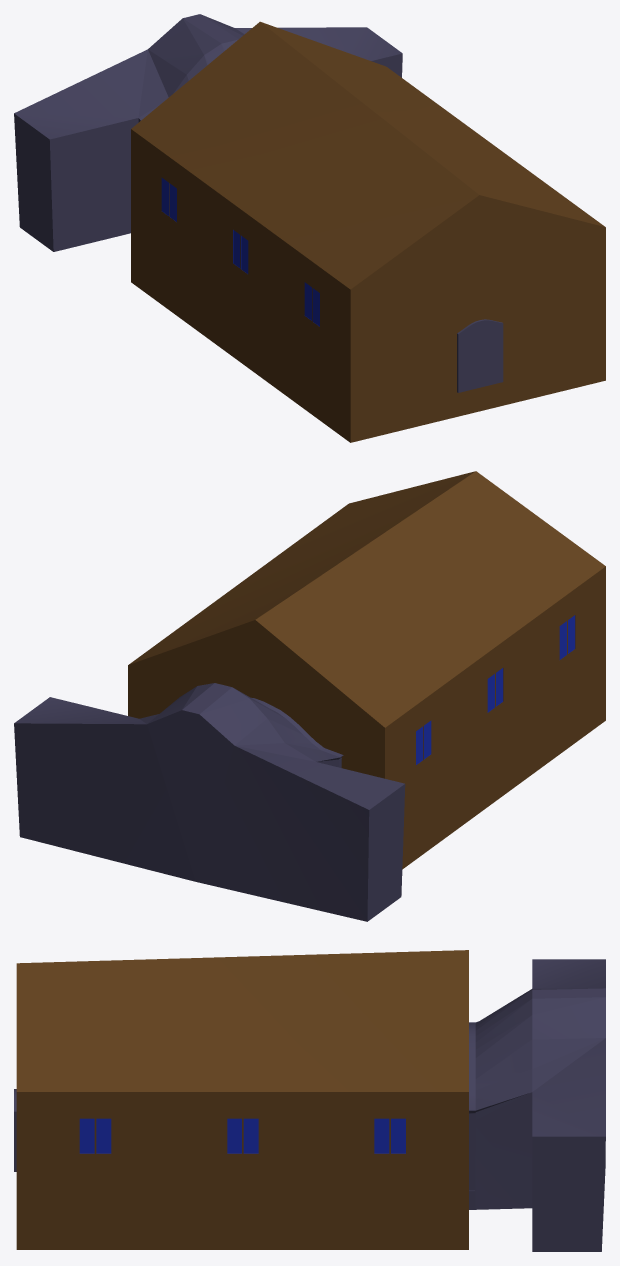
The model's file is AsylumRecRoom.obj.
3 views of the same model, one above another, from view 1: azimuth 30°, elevation 25°; view 2: azimuth 150°, elevation 25°; view 3: azimuth 270°, elevation 25° (orthographic). The views are drawn at different scales.
Parts seen in each view (by area): view 1: Room, Stage, Door, Windows; view 2: Room, Stage, Windows; view 3: Room, Stage, Windows.
Boxes of the visible parts, x1,y1,x2,y2 form: Room: [131, 21, 605, 442]; Stage: [14, 14, 402, 251]; Door: [457, 319, 503, 392]; Windows: [161, 177, 319, 326]; Room: [128, 471, 605, 869]; Stage: [14, 683, 405, 921]; Windows: [416, 615, 574, 764]; Room: [16, 950, 468, 1249]; Stage: [469, 959, 605, 1251]; Windows: [79, 1118, 405, 1153].
Bounding box in the file's own units: 15.87 × 9.85 × 22.35.
